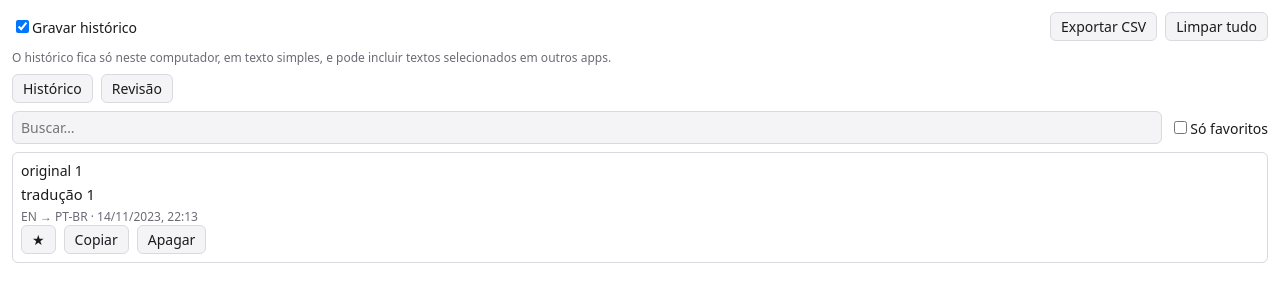
HistoryApp — ações › asks for confirmation before clearing everything
Expected: the text "original 1" is shown, x1=21 y1=161 x2=83 y2=180
Click the button "Limpar tudo" at (1217, 26), box x1=1165 y1=12 x2=1268 y2=41
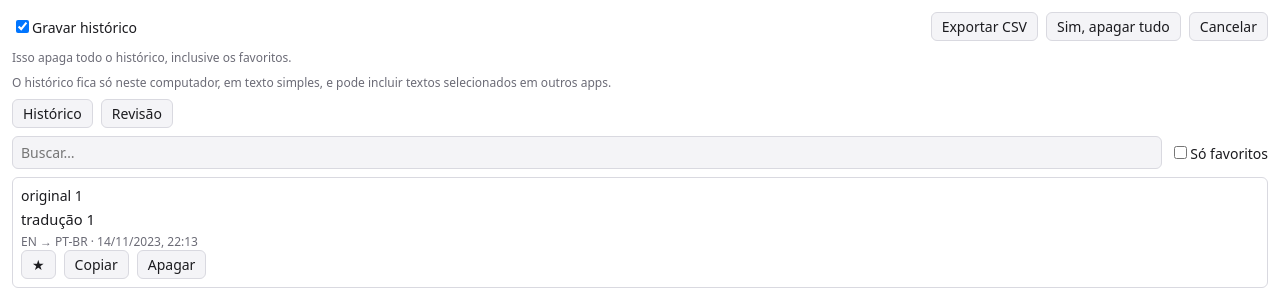
Expected: the text "Isso apaga todo o histórico, inclusive os favoritos." is shown, x1=12 y1=49 x2=292 y2=66
Click the button "Cancelar" at (1228, 26), box x1=1189 y1=12 x2=1268 y2=41
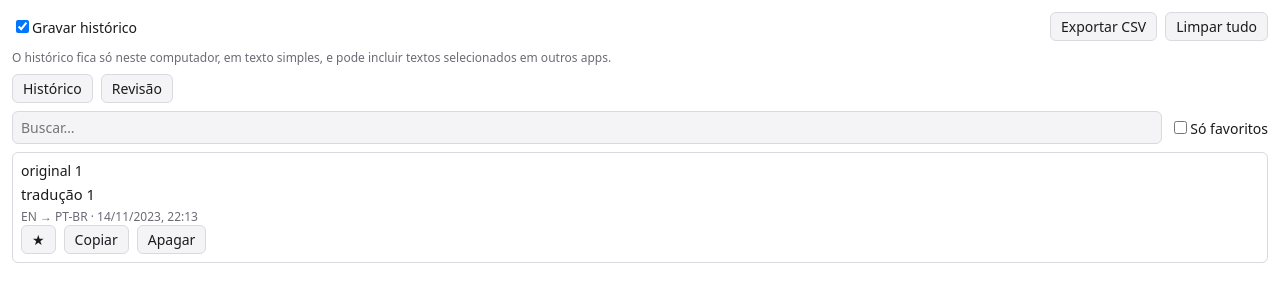
Click the button "Limpar tudo" at (1217, 26), box x1=1165 y1=12 x2=1268 y2=41
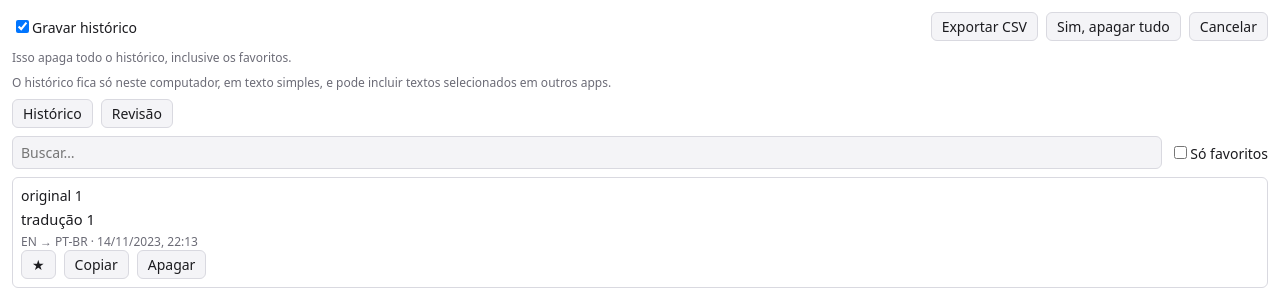
Click the button "Sim, apagar tudo" at (1113, 26), box x1=1046 y1=12 x2=1181 y2=41
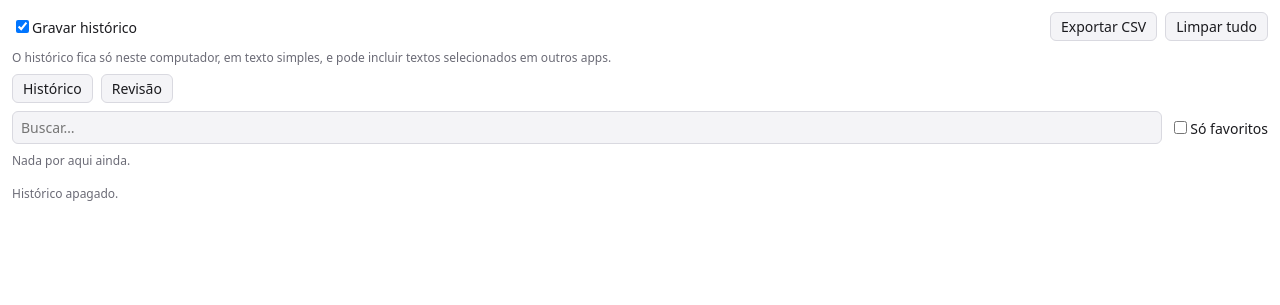
Expected: the text "original 1" is gone
Expected: the text "Histórico apagado." is shown, x1=12 y1=185 x2=118 y2=202
